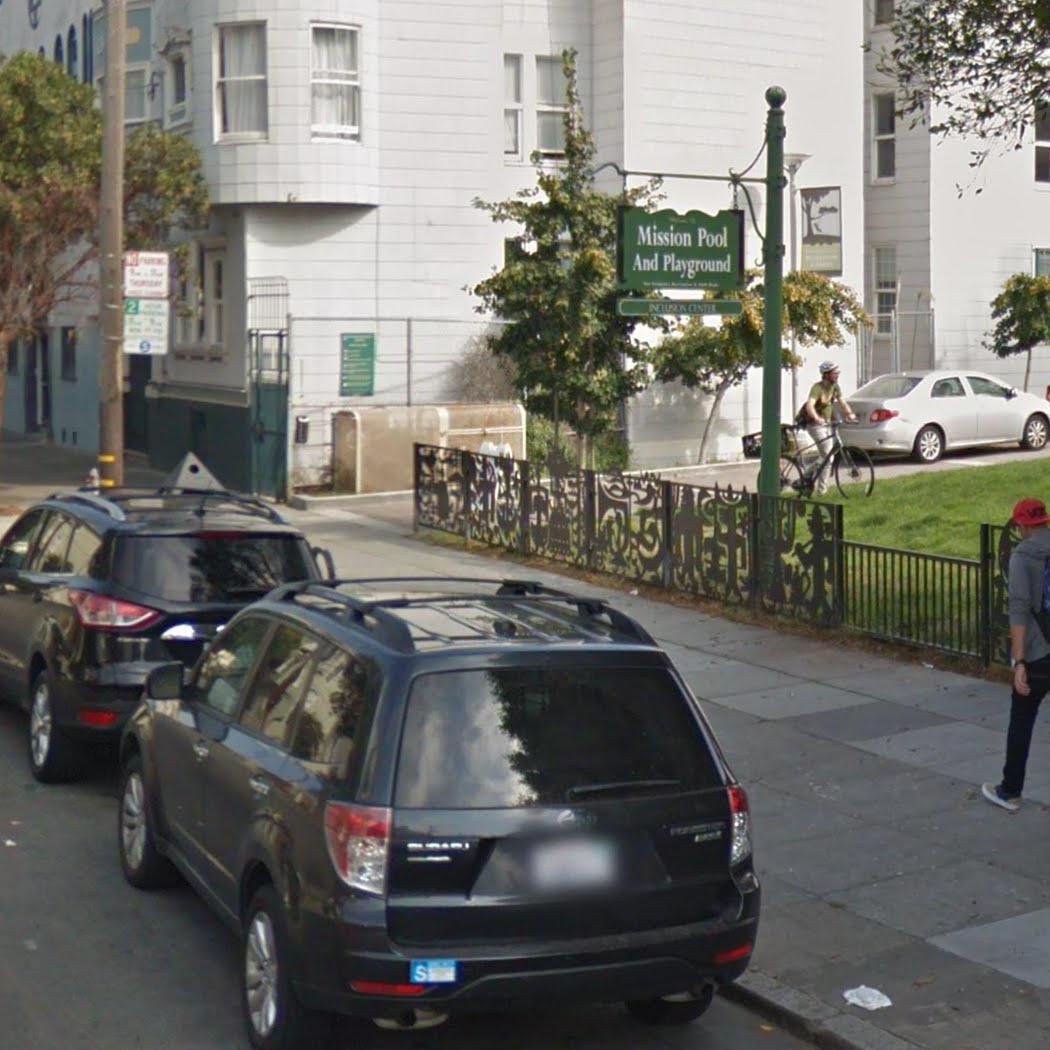2 Hour Parking: (122, 298, 171, 357)
No Parking: (121, 250, 171, 298)
